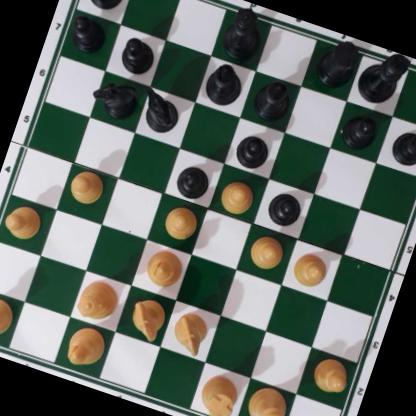black-bishop: (248, 76, 297, 128), (202, 59, 248, 110)
black-king: (353, 45, 410, 112)
black-knight: (88, 74, 141, 121), (135, 86, 185, 135)
black-pawn: (66, 11, 112, 56), (231, 127, 275, 172), (340, 108, 382, 153), (173, 159, 215, 202), (264, 187, 306, 230), (117, 32, 157, 77), (387, 124, 416, 172)
black-queen: (217, 2, 271, 64)
black-rook: (311, 33, 364, 93), (73, 0, 136, 16)
white-bishop: (62, 321, 108, 371), (143, 245, 187, 291)
white-king: (240, 382, 297, 416)
white-knight: (168, 308, 214, 358), (125, 295, 170, 342)
white-pawn: (289, 245, 333, 292), (0, 199, 46, 243), (308, 354, 353, 397), (216, 174, 259, 217), (66, 165, 108, 207), (247, 230, 288, 273), (160, 201, 201, 243)
white-queen: (74, 273, 123, 327)
white-rook: (195, 370, 245, 416), (0, 289, 18, 344)
